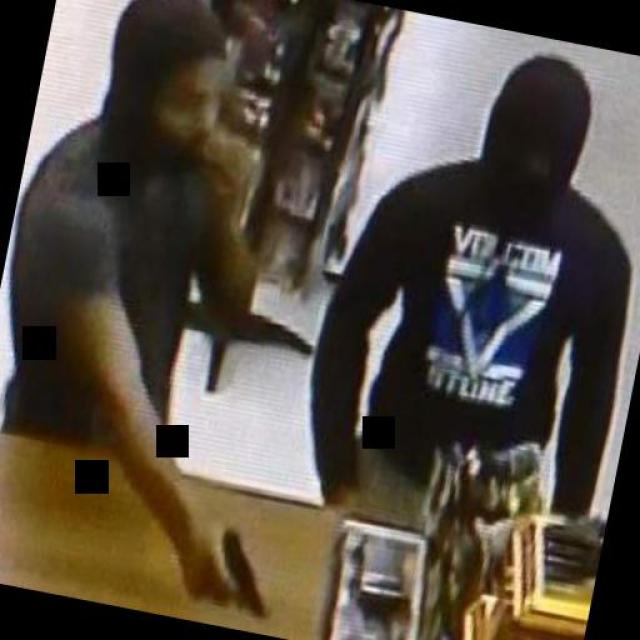gun: (195, 508, 286, 622)
